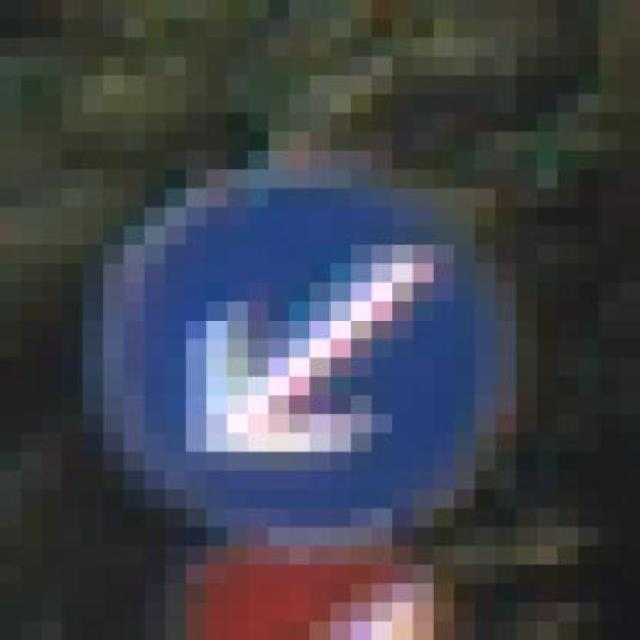Keep-Left: (61, 151, 537, 546)
